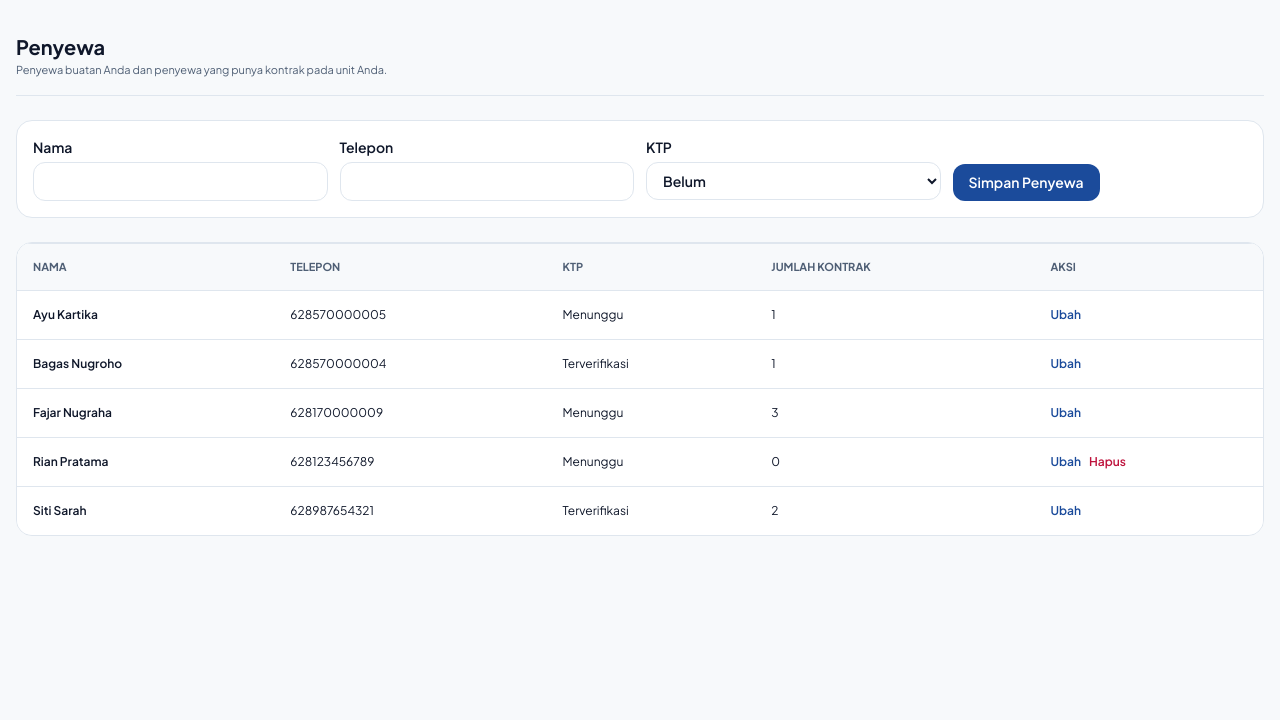
Test: OwnerTenantsPage › menghapus penyewa tanpa kontrak
This screenshot has width=1280, height=720.
Check: the text "Rian Pratama" is shown, box [17, 438, 274, 487]
Click the button "Hapus" at (1108, 462), box [1089, 454, 1126, 470]
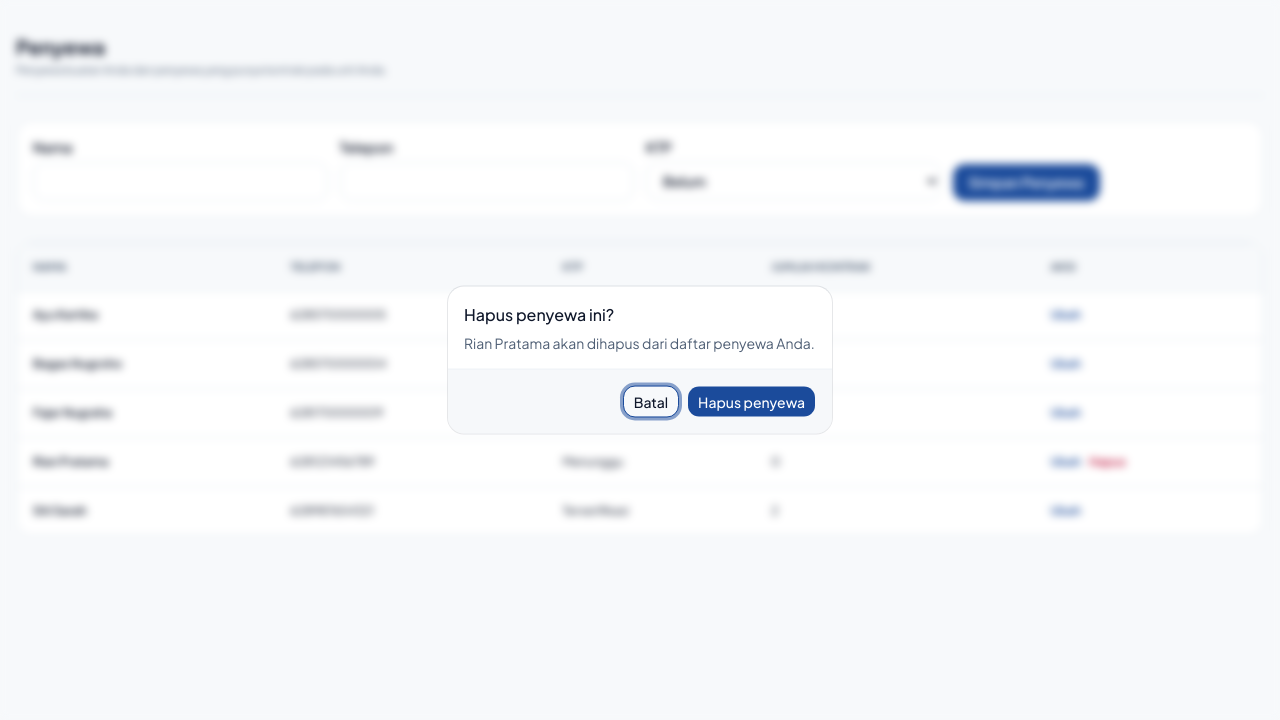
Click the button "Hapus penyewa" at (752, 402), box [687, 386, 816, 418]
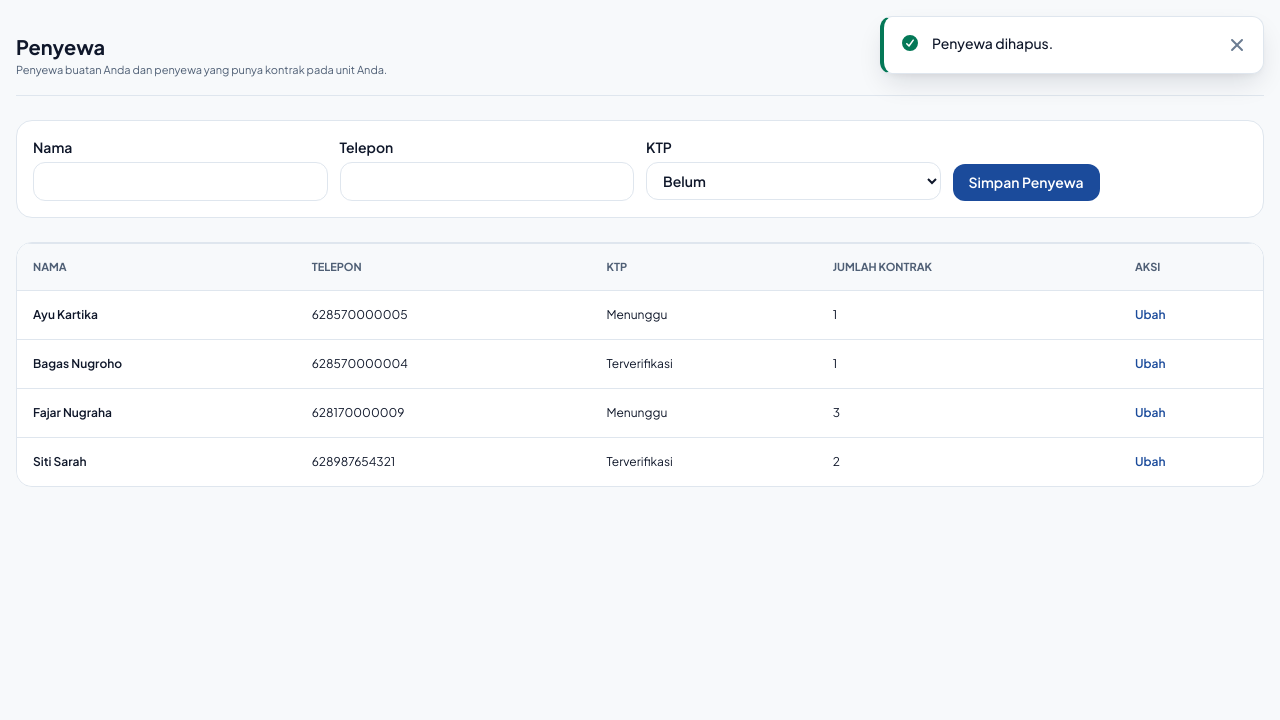
Check: the text "Rian Pratama" is gone
